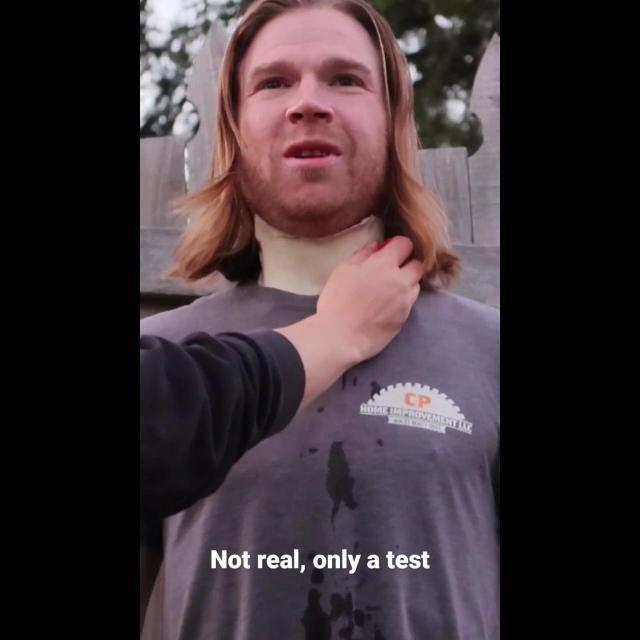blood: (374, 236, 392, 252)
